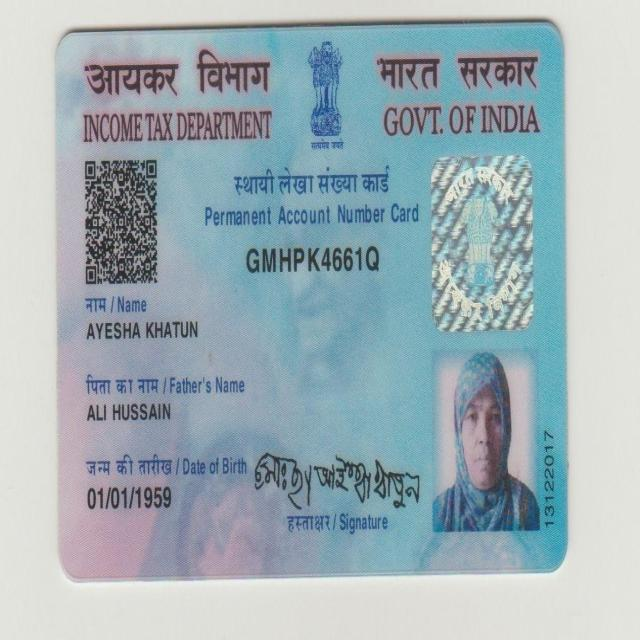pan_card: (51, 27, 569, 566)
